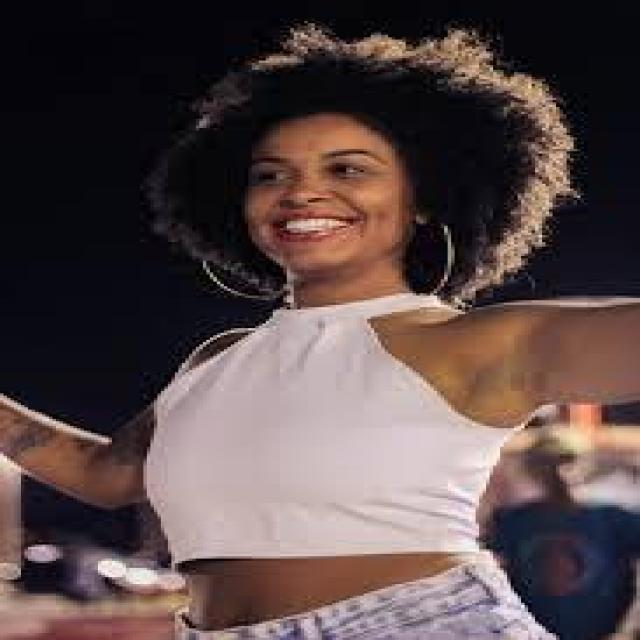person: (0, 2, 633, 638)
